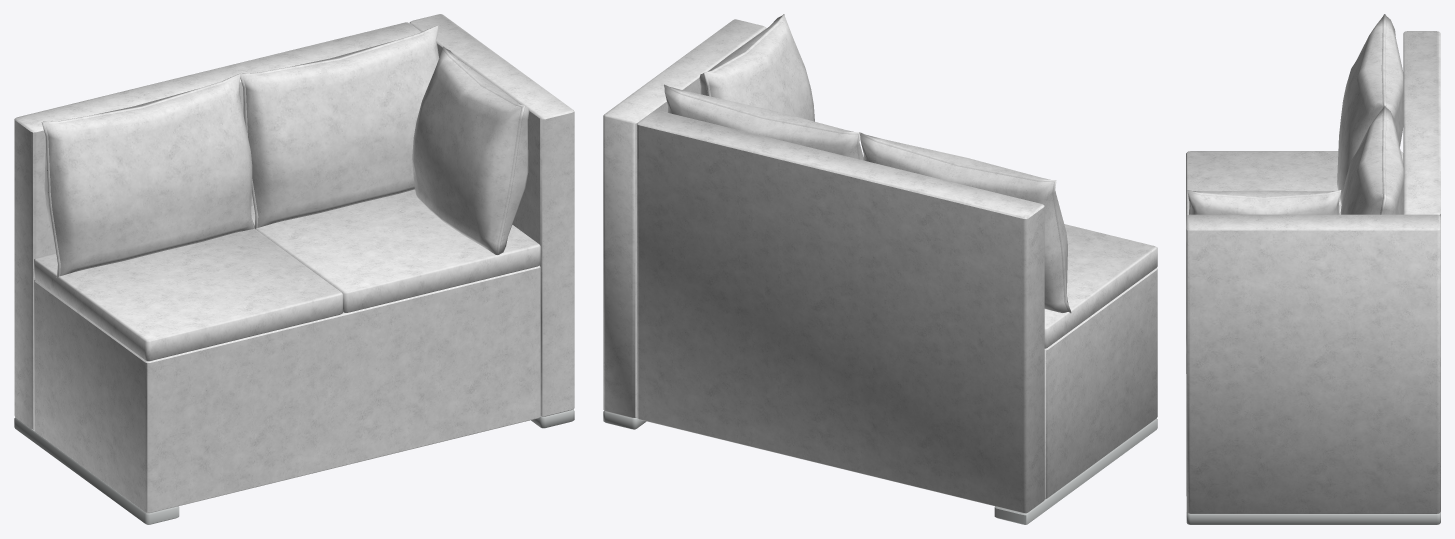
File: Sofa07_1.FBX
3 views of the same model, side by side, from view 1: azimuth 30°, elevation 25°; view 2: azimuth 150°, elevation 25°; view 3: azimuth 270°, elevation 25° (orthographic). The views are drawn at different scales.
Parts seen in each view (by area): view 1: Sofa07_1; view 2: Sofa07_1; view 3: Sofa07_1.
Part boxes in pixels (<box>): Sofa07_1: <box>14,14,574,524</box>; Sofa07_1: <box>603,14,1157,524</box>; Sofa07_1: <box>1186,14,1440,524</box>.
Bounding box in the file's own units: 156 × 114 × 84.14.
